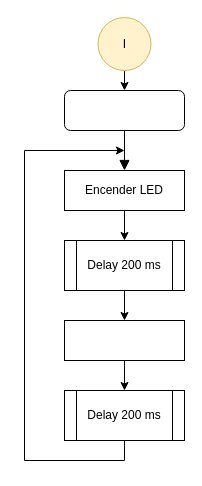
Image size: 202x486. Some labels were removed from this diagram. The shapes that lost their labels are listed below. From the top down, each one's centre as x and y in pixels, then its label:
point 124,110: Configuracion de puertos
point 124,340: Apagar LED
